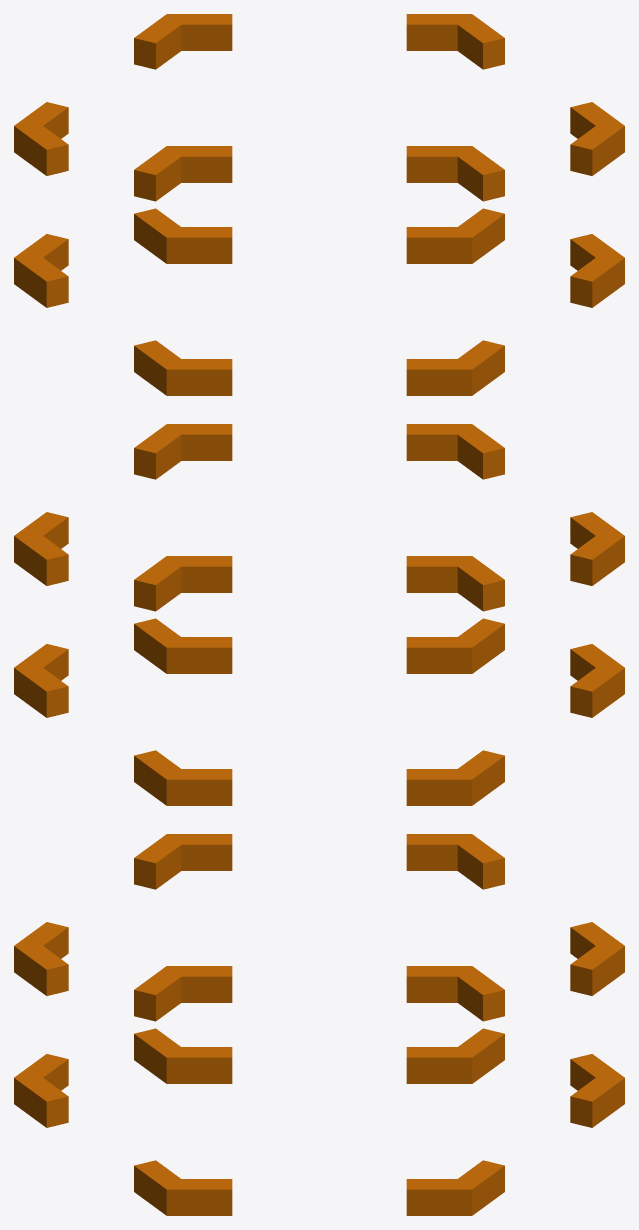
Rendered from CursorHex3D.fbx.
3 renders of one model, top to bottom at view 1: azimuth 30°, elevation 25°; view 2: azimuth 150°, elevation 25°; view 3: azimuth 270°, elevation 25°, orthographic.
Visible parts, largest first — view 1: obj1; view 2: obj1; view 3: obj1.
Part boxes in pixels (<box>): obj1: <box>14,14,624,395</box>; obj1: <box>14,424,624,805</box>; obj1: <box>14,834,624,1215</box>.
Bounding box in the file's own units: 182 × 60 × 210.
